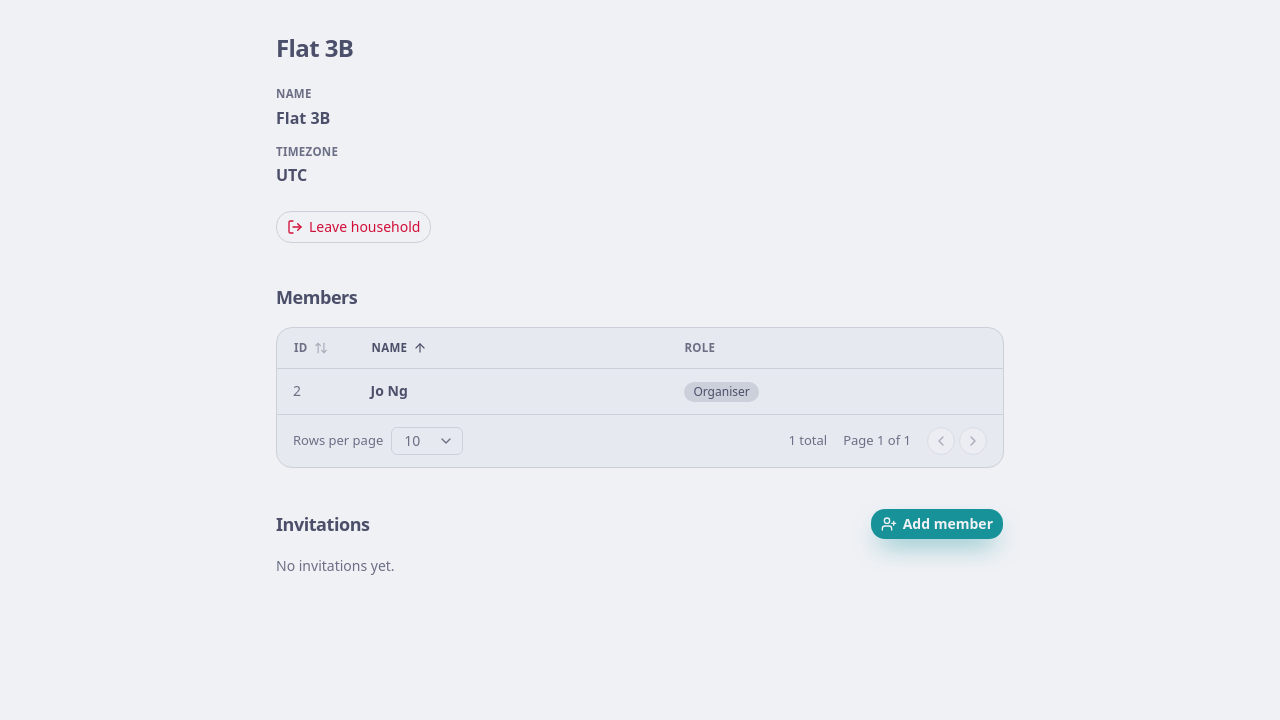
HouseholdEdit › does not re-read the session when leaving fails
What coordinates should you click on to do the following:
click the button "Leave household"
I would click on:
 (354, 227)
Its box is [276,211,432,243].
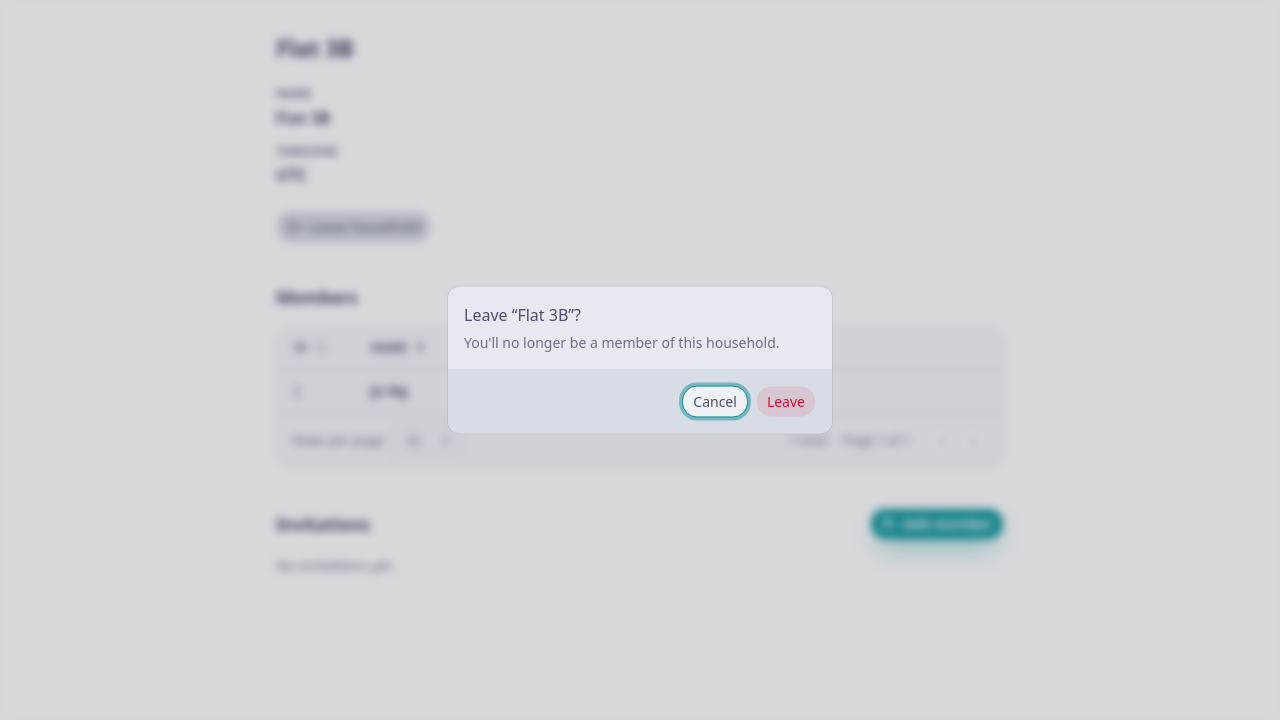
What coordinates should you click on to do the following:
click the button "Leave"
I would click on:
 (786, 402)
Its box is [756,386,816,418].
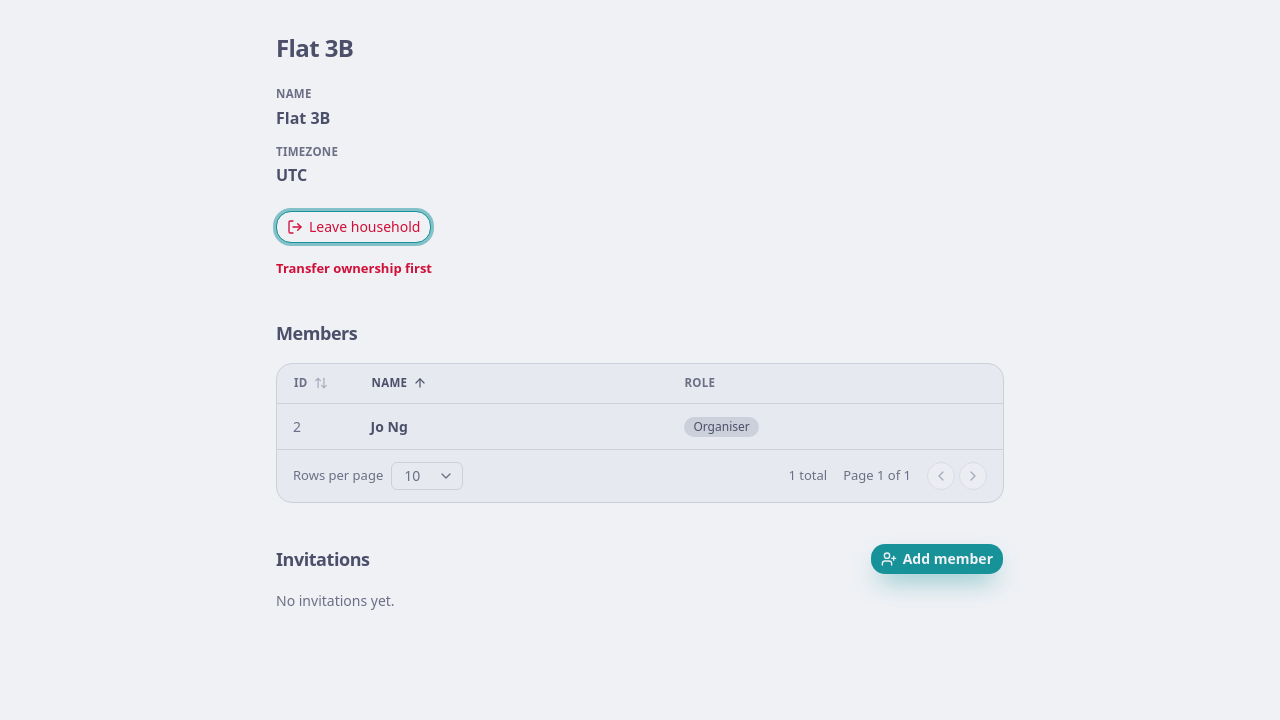
Check: the text "Transfer ownership first" is shown, box [276,259,432,277]
